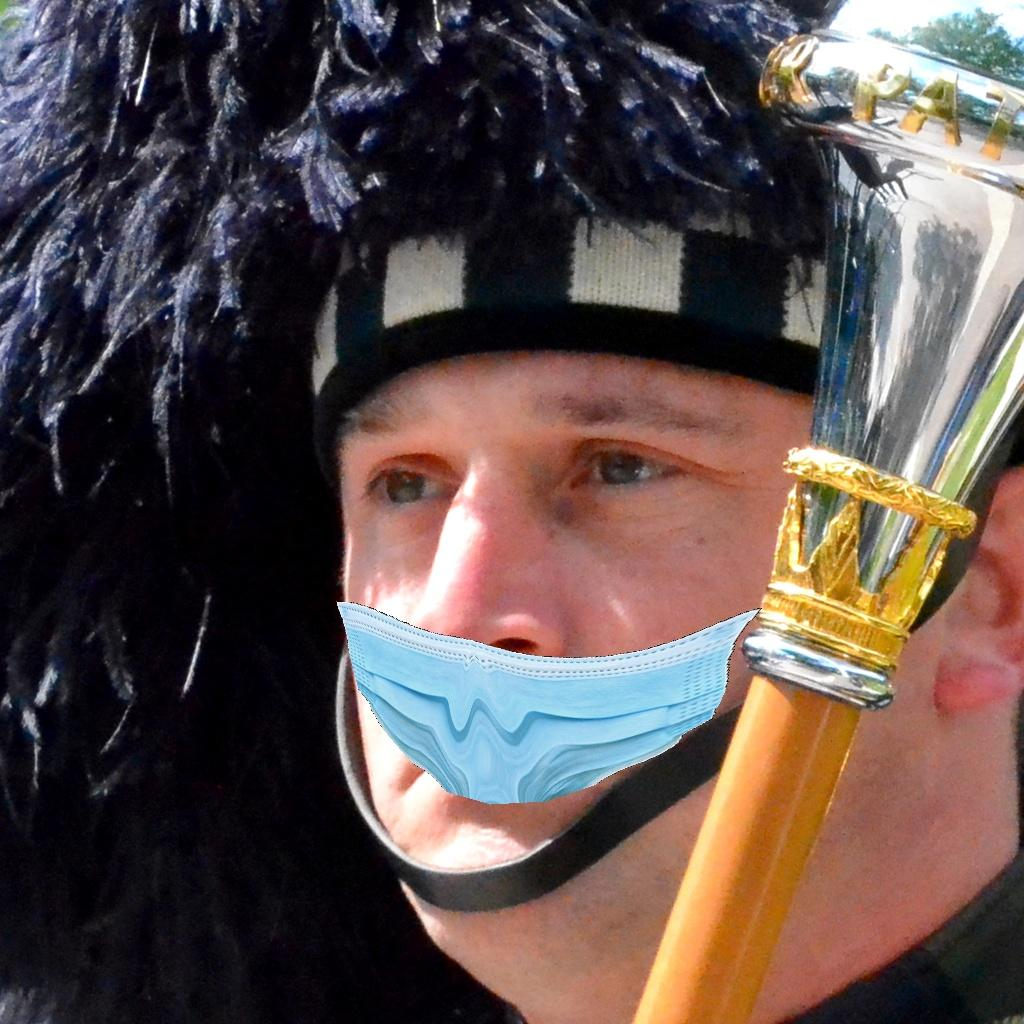Máscara Incorreta: (336, 387, 862, 1001)
